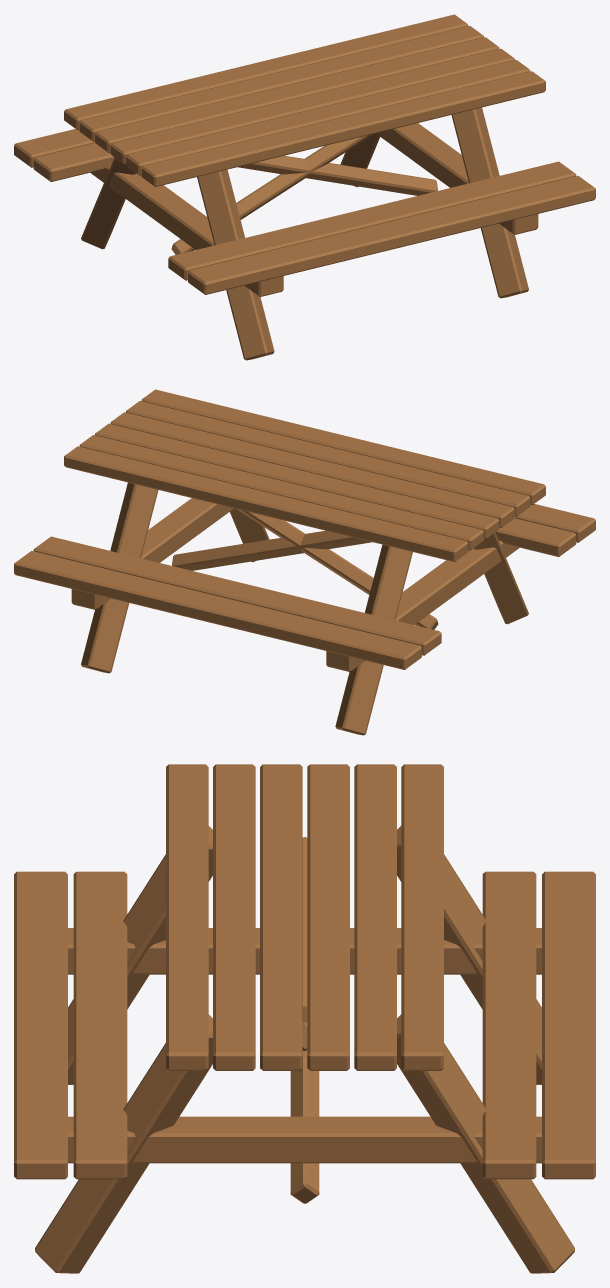
The model's file is b01_classic_aframe_picnic_table.glb.
The picture shows the model from 3 angles, top to bottom: view 1: azimuth 30°, elevation 25°; view 2: azimuth 150°, elevation 25°; view 3: azimuth 270°, elevation 25°; orthographic projection. The views are drawn at different scales.
Visible parts, largest first — view 1: b01_classic_aframe_picnic_table; view 2: b01_classic_aframe_picnic_table; view 3: b01_classic_aframe_picnic_table.
Part boxes in pixels (x1,y1,x2,y2): b01_classic_aframe_picnic_table: [14, 14, 595, 360]; b01_classic_aframe_picnic_table: [14, 389, 595, 735]; b01_classic_aframe_picnic_table: [14, 764, 595, 1273].
Size of the model in its own units: 1.85 by 0.8043 by 1.57.
